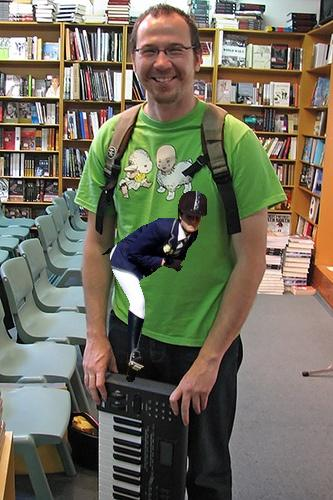tampered: (103, 192, 207, 383)
